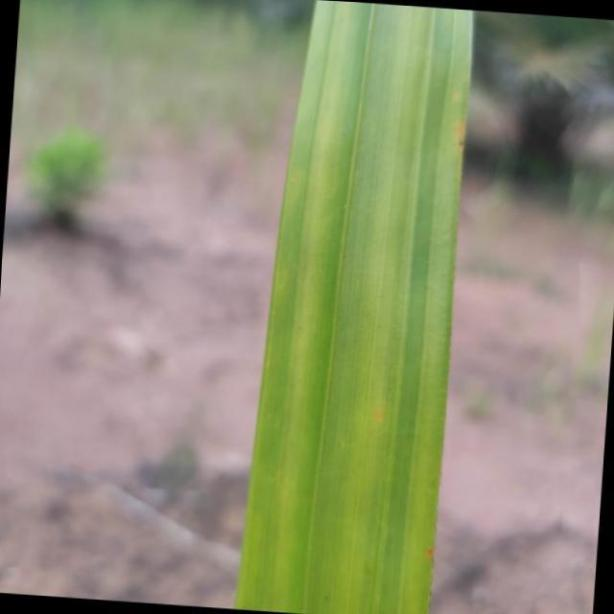nitrogen: (238, 0, 475, 614)
